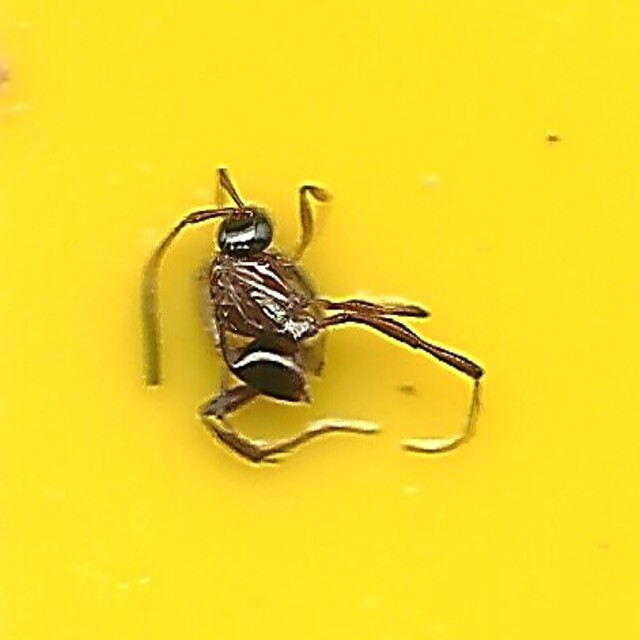Hymenoptera: (136, 170, 504, 470)
